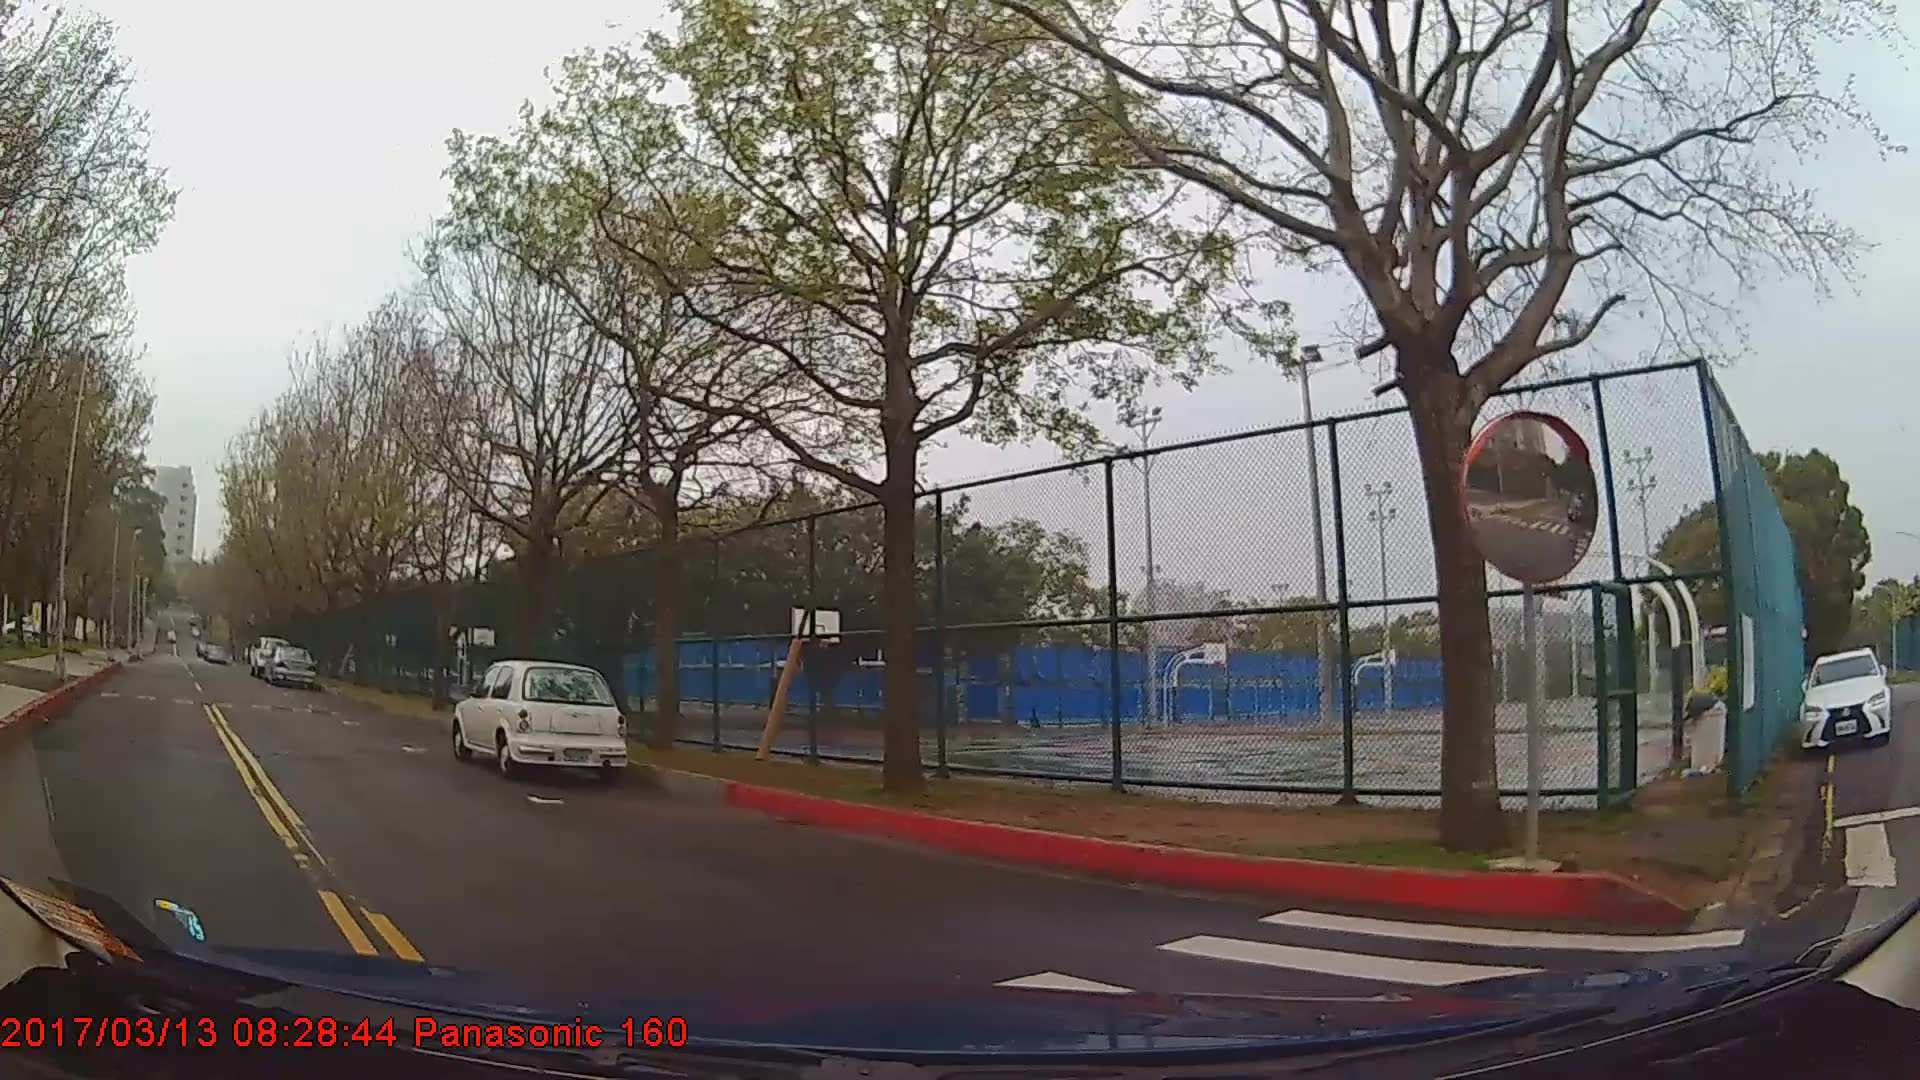vehicle: (454, 659, 628, 777), (1797, 646, 1888, 752), (265, 644, 315, 687)
